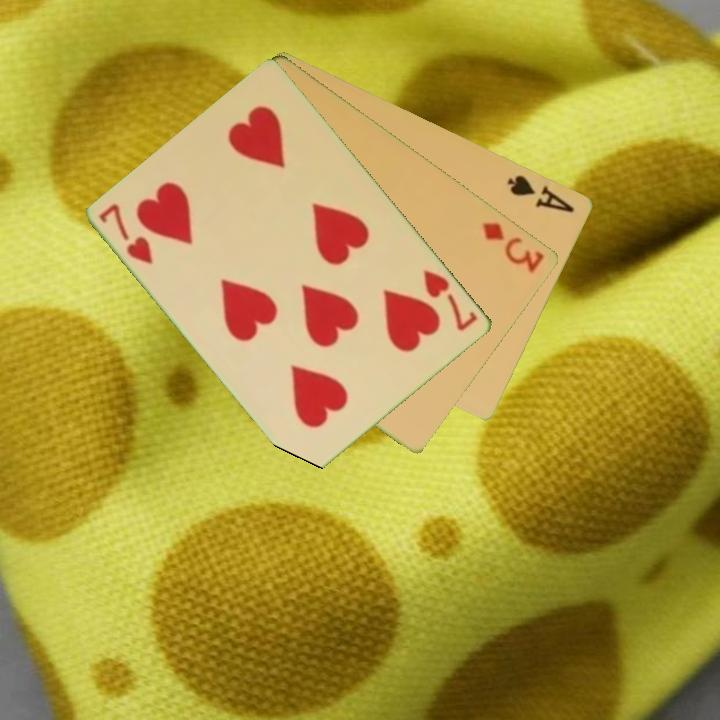3d: (479, 218, 548, 276)
7h: (95, 200, 157, 267), (420, 266, 481, 334)
As: (504, 171, 578, 216)
